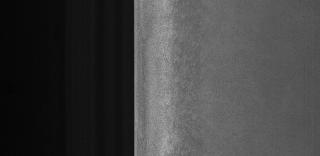silk spot: (163, 16, 214, 144)
